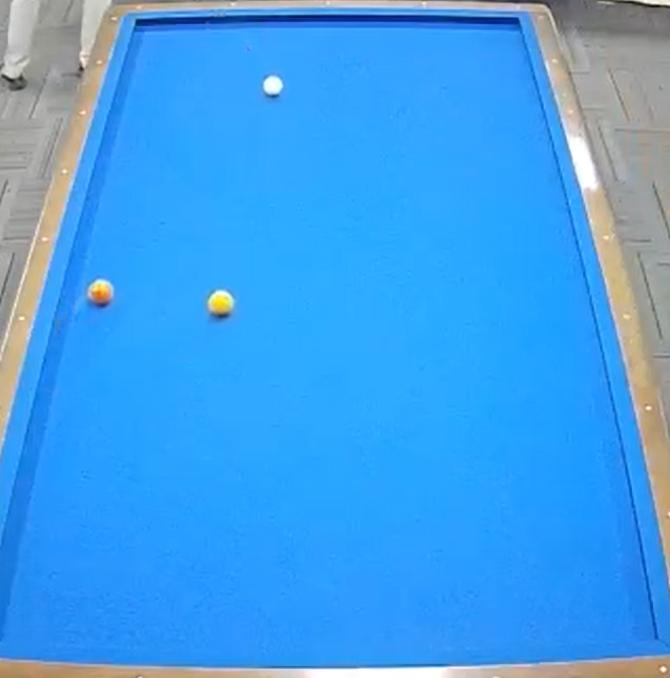orange ball: (83, 277, 117, 316)
white ball: (259, 71, 286, 103)
yellow ball: (205, 285, 241, 327)
